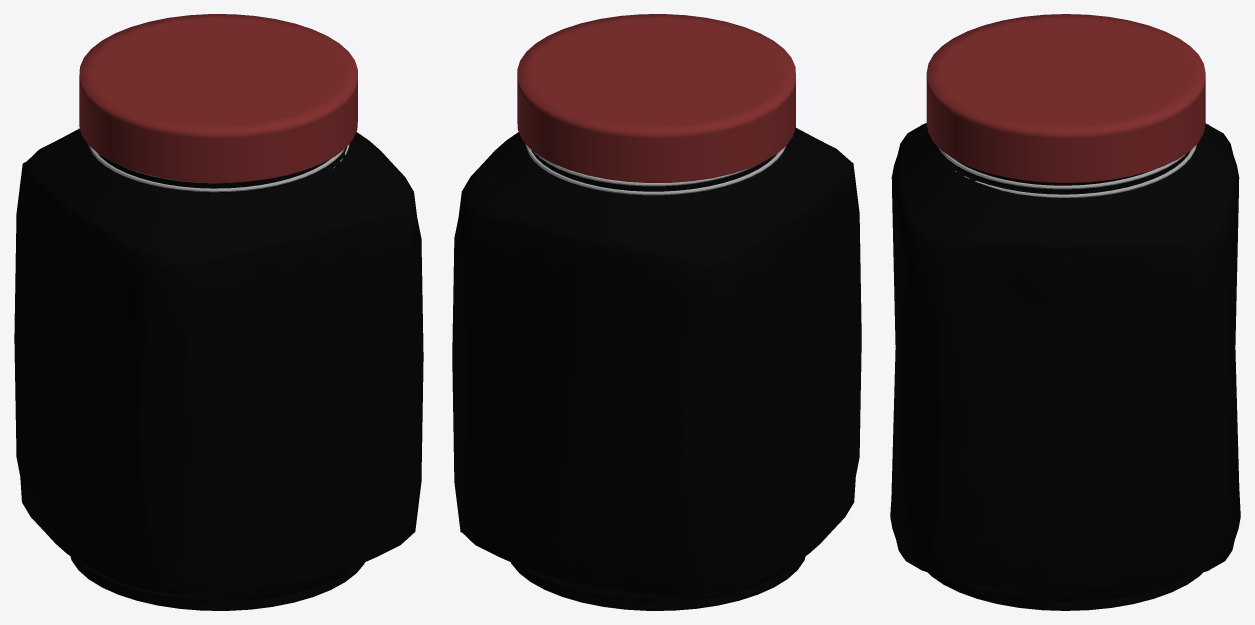
The model's file is Jar1.fbx.
The picture shows the model from 3 angles, left to right: view 1: azimuth 30°, elevation 25°; view 2: azimuth 150°, elevation 25°; view 3: azimuth 270°, elevation 25°; orthographic projection.
Visible parts, largest first — view 1: Jar_Geometry, Lid_Geometry, Roundedrings_Geometry; view 2: Jar_Geometry, Lid_Geometry, Roundedrings_Geometry; view 3: Jar_Geometry, Lid_Geometry, Roundedrings_Geometry.
Part boxes in pixels (bbox=[...]): Jar_Geometry: bbox=[14, 128, 423, 610]; Lid_Geometry: bbox=[79, 14, 357, 182]; Roundedrings_Geometry: bbox=[88, 144, 349, 192]; Jar_Geometry: bbox=[452, 128, 861, 610]; Lid_Geometry: bbox=[517, 14, 795, 182]; Roundedrings_Geometry: bbox=[525, 144, 785, 195]; Jar_Geometry: bbox=[890, 123, 1240, 610]; Lid_Geometry: bbox=[926, 14, 1205, 182]; Roundedrings_Geometry: bbox=[938, 144, 1196, 197].
Size of the model in its own units: 6.75 by 10.11 by 6.75.
